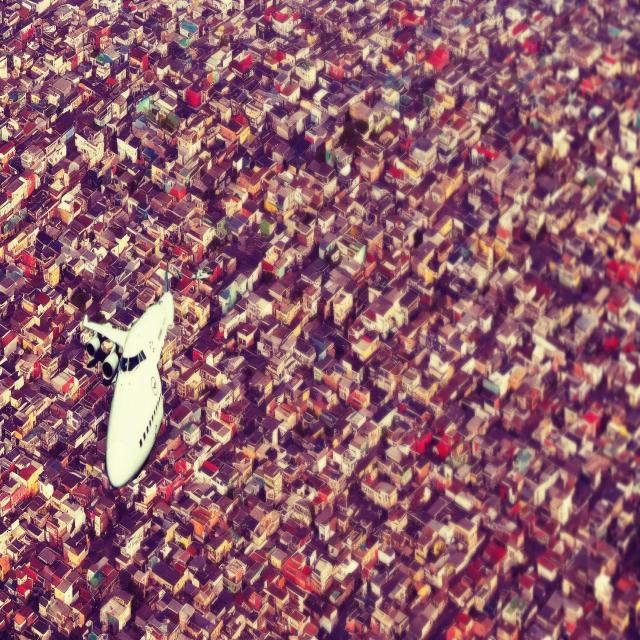airplane: (80, 265, 175, 488)
